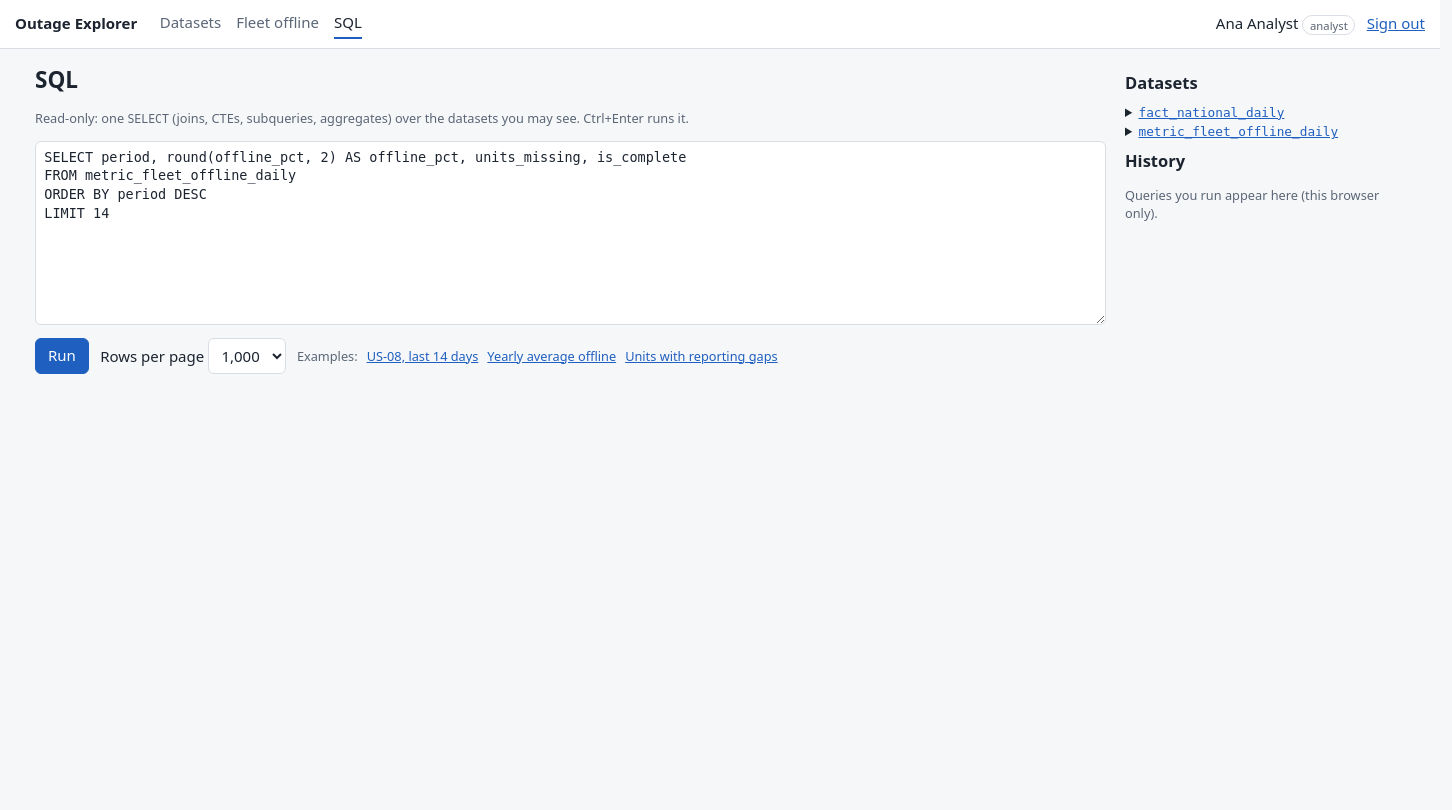
Test: SQL page › warns when an unordered result is paged
Step 1. Click the button "Run" → (62, 356), box [35, 338, 89, 374]
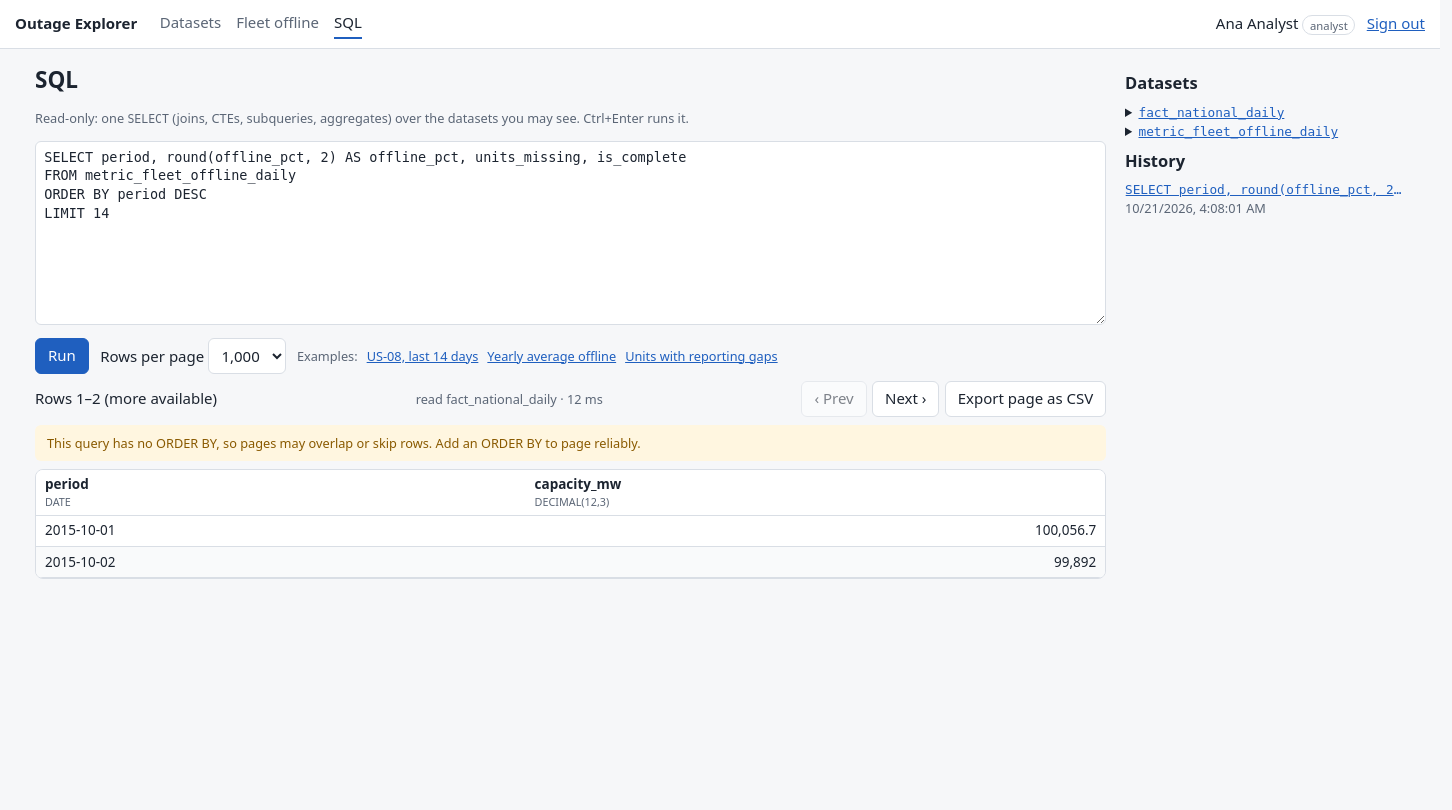
Now the text "has no ORDER BY" is shown, box [47, 434, 641, 452]
